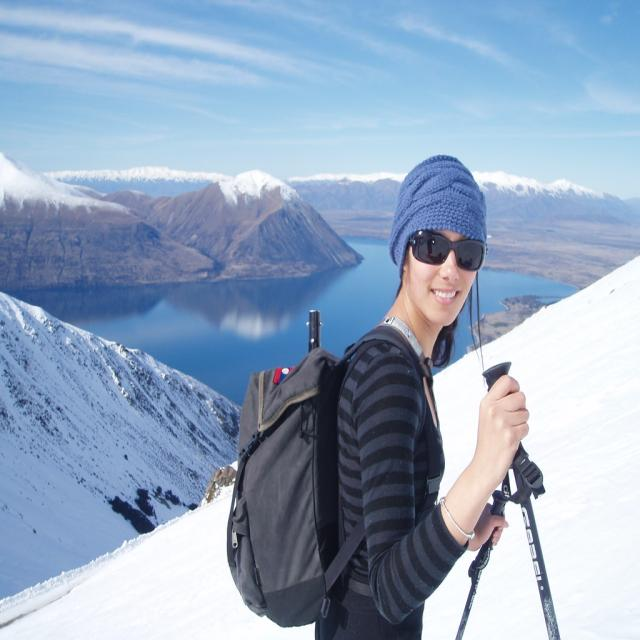backpack: (240, 331, 432, 639)
